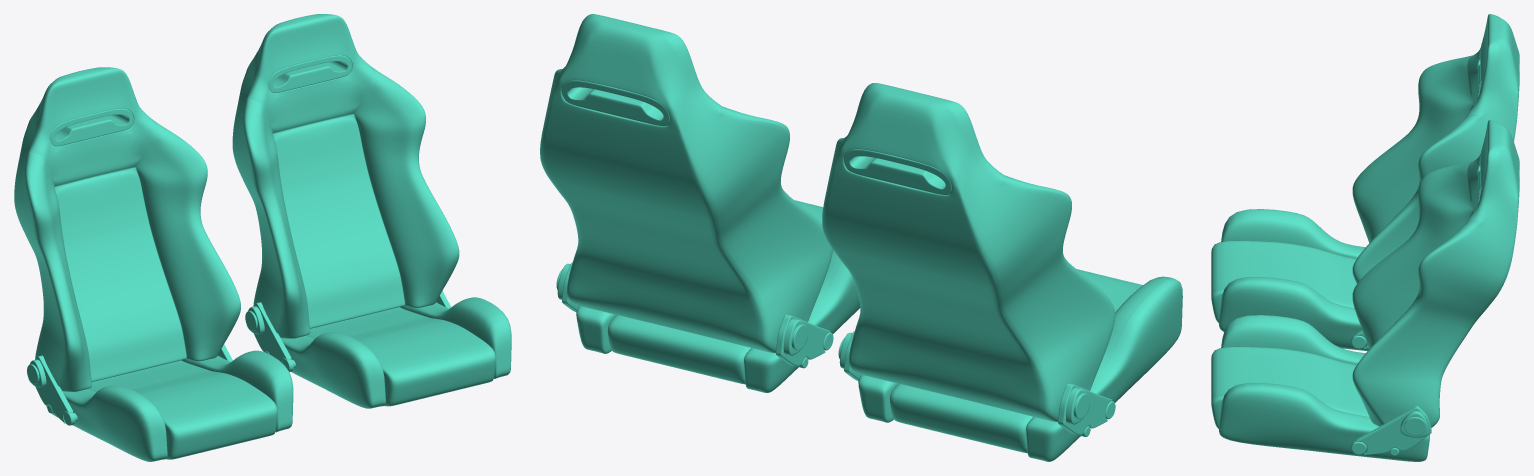
Rendered from Asientos_Carro.obj.
3 renders of one model, left to right at view 1: azimuth 30°, elevation 25°; view 2: azimuth 150°, elevation 25°; view 3: azimuth 270°, elevation 25°, orthographic. The views are drawn at different scales.
Parts seen in each view (by area): view 1: Asientos_Carro; view 2: Asientos_Carro; view 3: Asientos_Carro.
Boxes of the visible parts, x1,y1,x2,y2 form: Asientos_Carro: (14, 14, 511, 461); Asientos_Carro: (540, 14, 1182, 461); Asientos_Carro: (1211, 14, 1519, 461).
Size of the model in its own units: 37.26 by 26.16 by 24.87.
